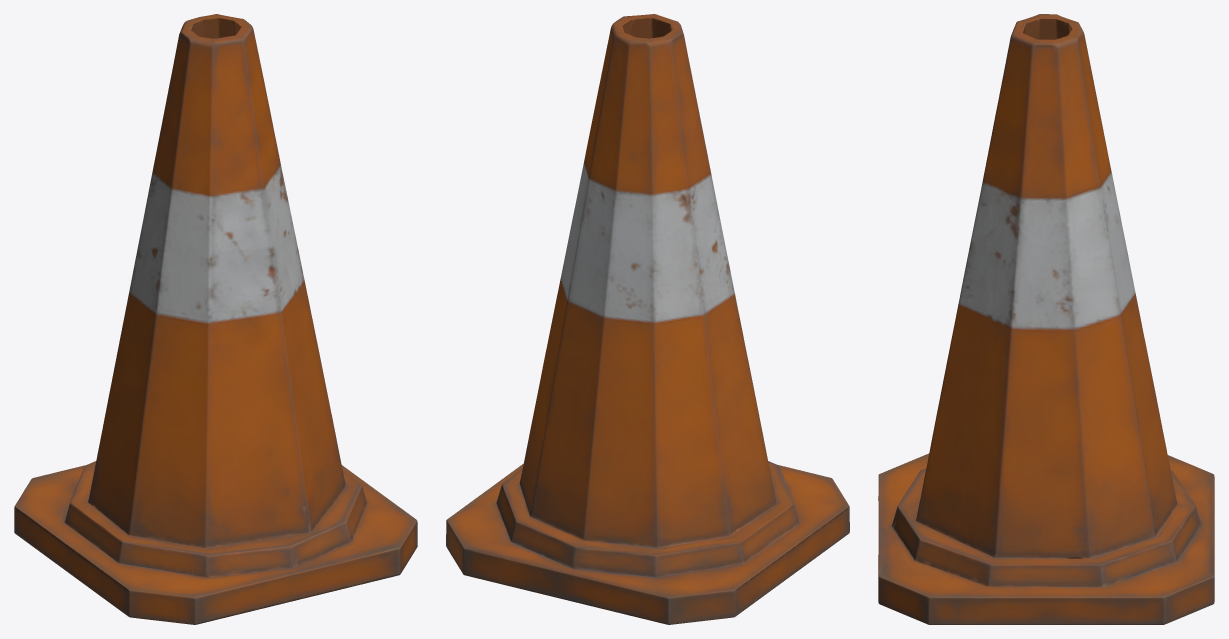
The model's file is prop_traffic_cone.glb.
The picture shows the model from 3 angles, left to right: view 1: azimuth 30°, elevation 25°; view 2: azimuth 150°, elevation 25°; view 3: azimuth 270°, elevation 25°; orthographic projection. The views are drawn at different scales.
Visible parts, largest first — view 1: node_0; view 2: node_0; view 3: node_0.
Boxes of the visible parts, x1,y1,x2,y2 form: node_0: (14,14,417,624); node_0: (446,14,849,624); node_0: (878,14,1214,624).
Size of the model in its own units: 0.5768 by 0.977 by 0.5675.
1 material, 1 textured.
